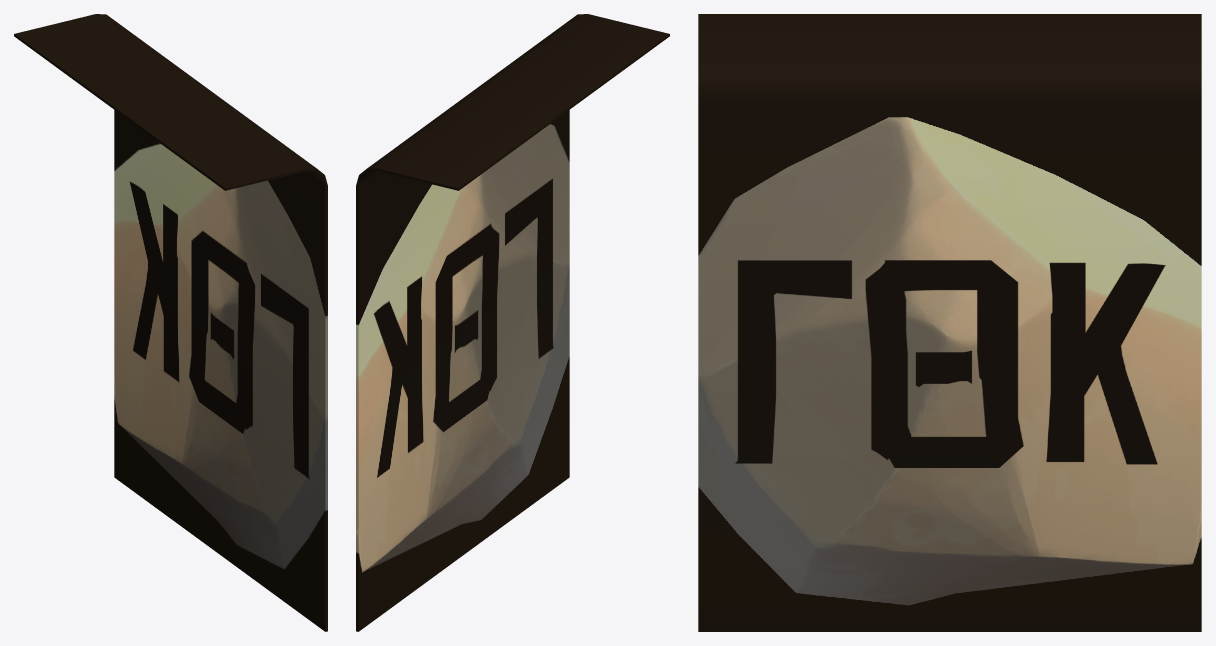
File: banner.fbx
3 views of the same model, side by side, from view 1: azimuth 30°, elevation 25°; view 2: azimuth 150°, elevation 25°; view 3: azimuth 270°, elevation 25° (orthographic). The views are drawn at different scales.
Visible parts, largest first — view 1: Plane; view 2: Plane; view 3: Plane.
Boxes of the visible parts, x1,y1,x2,y2 form: Plane: (14, 14, 327, 631); Plane: (356, 14, 669, 631); Plane: (698, 14, 1201, 631).
Size of the model in its own units: 56.13 by 245 by 200.
1 material, 1 textured.
